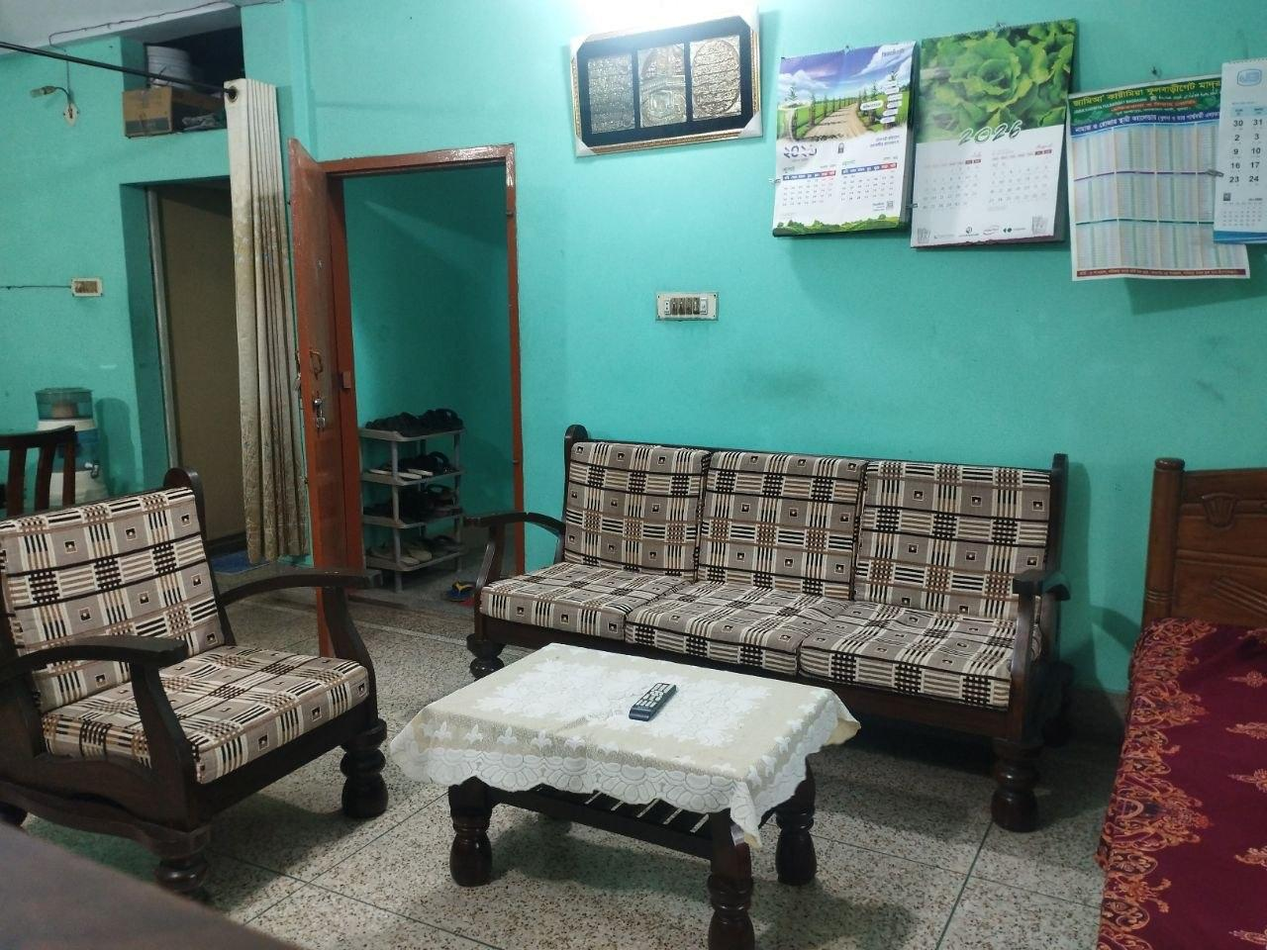Door: (276, 135, 359, 645), (349, 403, 478, 583)
Photo: (563, 14, 785, 141), (920, 24, 1124, 123), (793, 34, 944, 125)
Remote: (629, 651, 694, 730)
Table: (420, 587, 868, 950)
